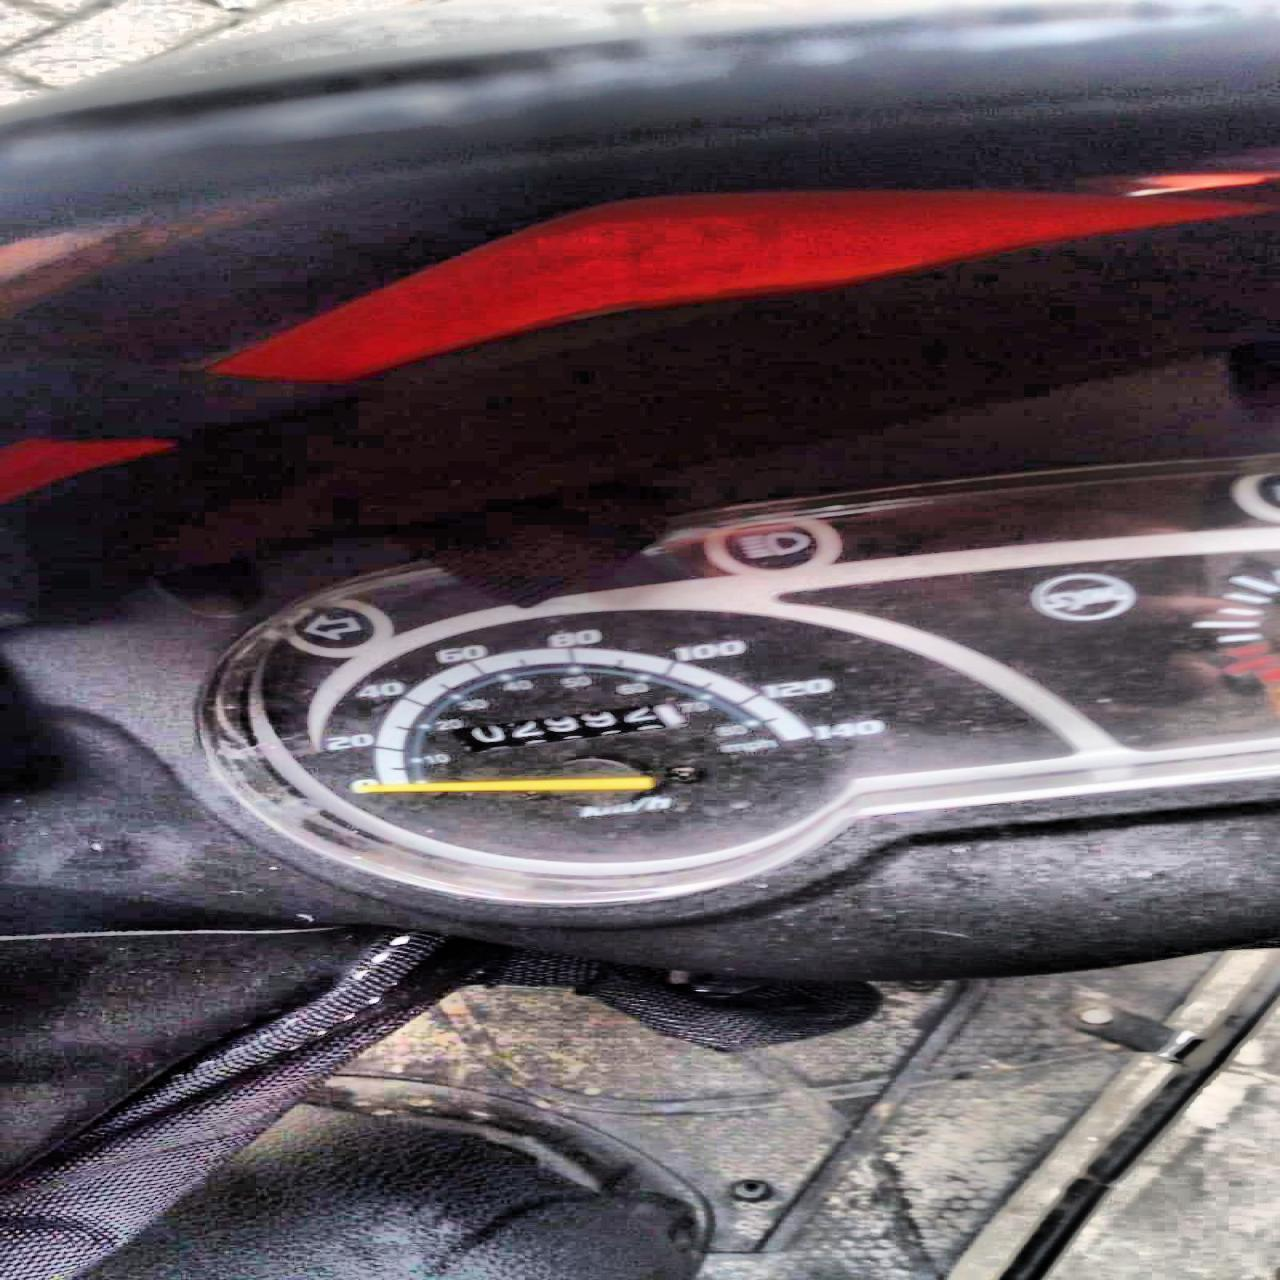0: (469, 724, 505, 742), (470, 699, 488, 708)
1: (661, 701, 683, 719)
2: (502, 719, 544, 736), (619, 704, 658, 722)
3: (459, 700, 474, 710)
7: (678, 702, 693, 712)
9: (578, 708, 617, 727), (543, 714, 579, 733)
odometer: (459, 701, 688, 754)
